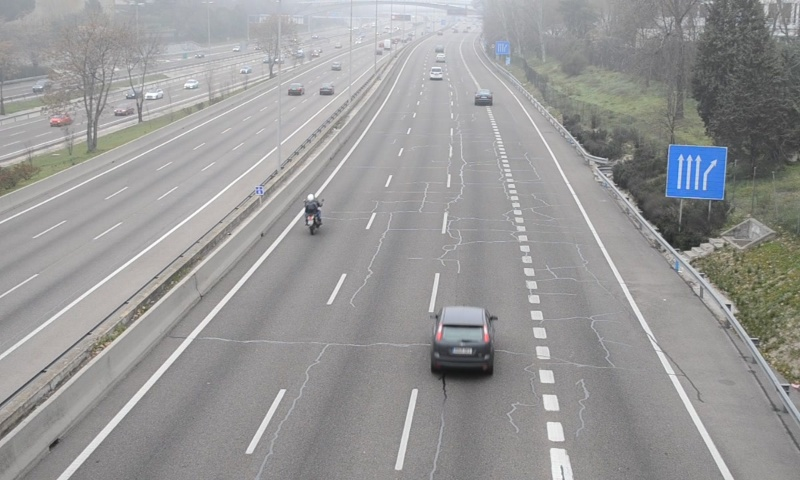car: (429, 306, 495, 374), (474, 89, 492, 105), (429, 66, 443, 80)
motorcycle: (302, 194, 322, 236)
